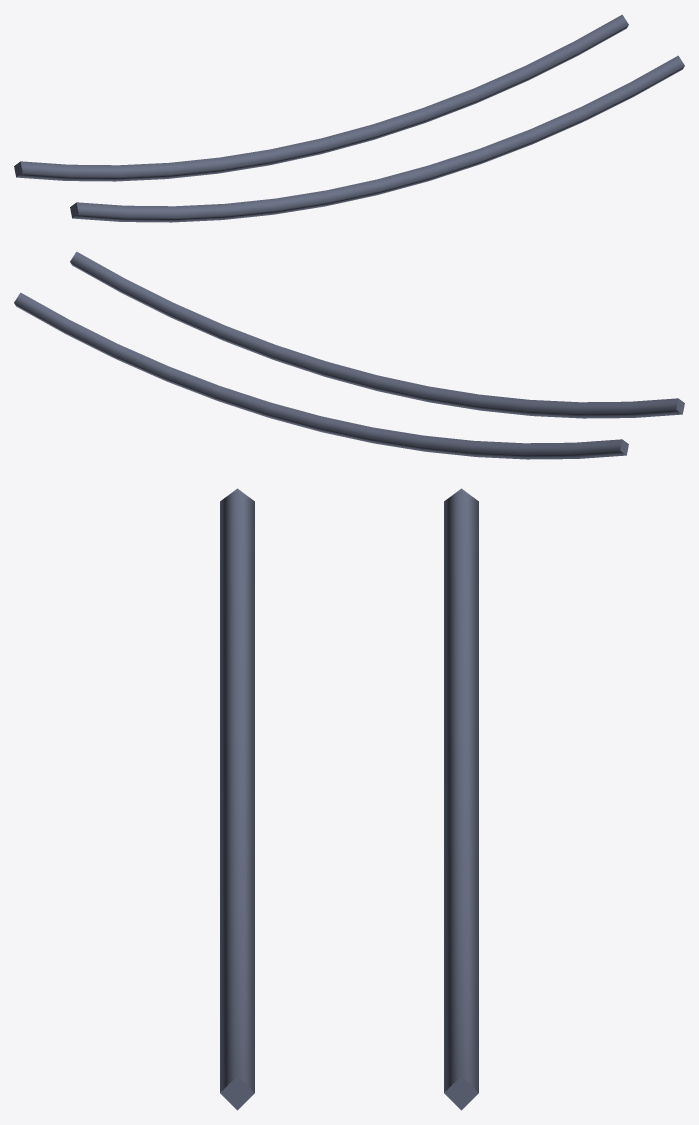
The model's file is electricity-wires-wide.glb.
3 renders of one model, top to bottom at view 1: azimuth 30°, elevation 25°; view 2: azimuth 150°, elevation 25°; view 3: azimuth 270°, elevation 25°, orthographic. The views are drawn at different scales.
Visible parts, largest first — view 1: electricity-wires-wide; view 2: electricity-wires-wide; view 3: electricity-wires-wide.
Part boxes in pixels (left/top/right/bottom): electricity-wires-wide: left=14, top=14, right=684, bottom=222; electricity-wires-wide: left=14, top=251, right=684, bottom=459; electricity-wires-wide: left=220, top=488, right=478, bottom=1110.
Size of the model in its own units: 1.01 by 0.1045 by 0.185.
1 material, 1 textured.
